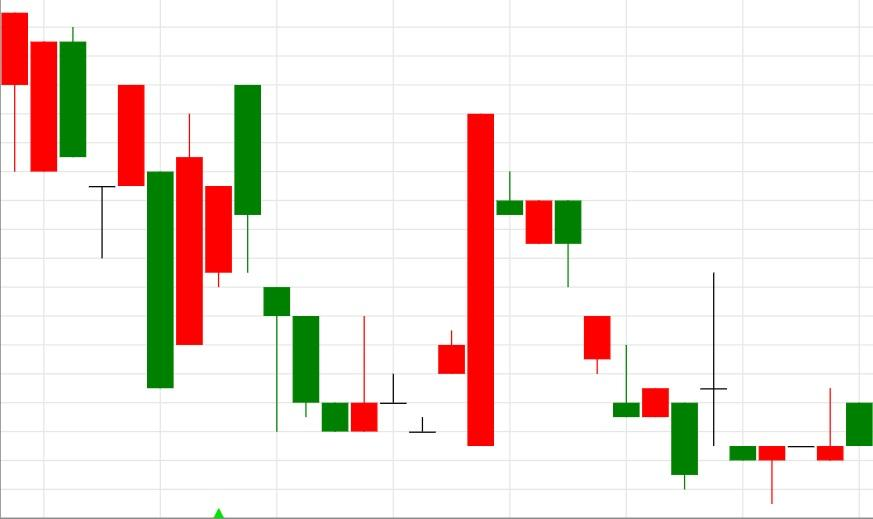inverse_hammer_rise: (234, 84, 378, 432)
